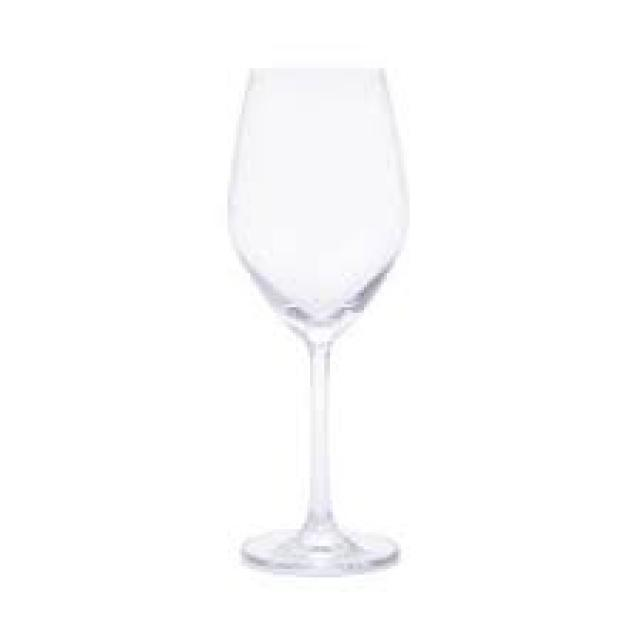Glass: (225, 69, 408, 576)
